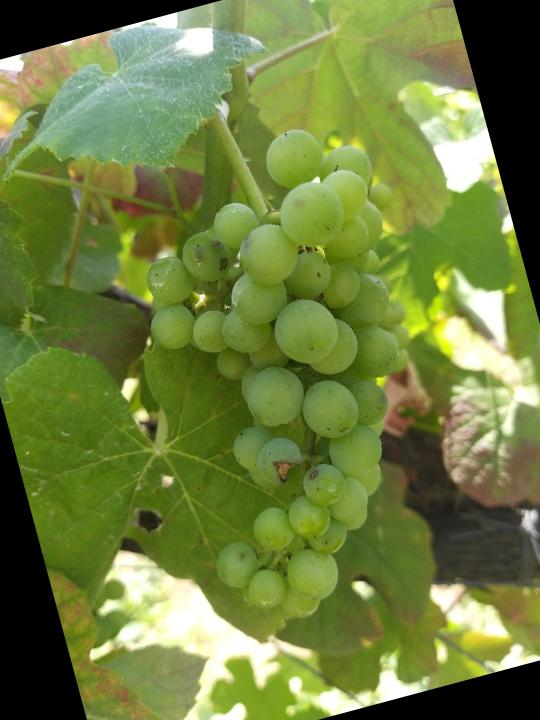grape: (108, 104, 498, 641)
